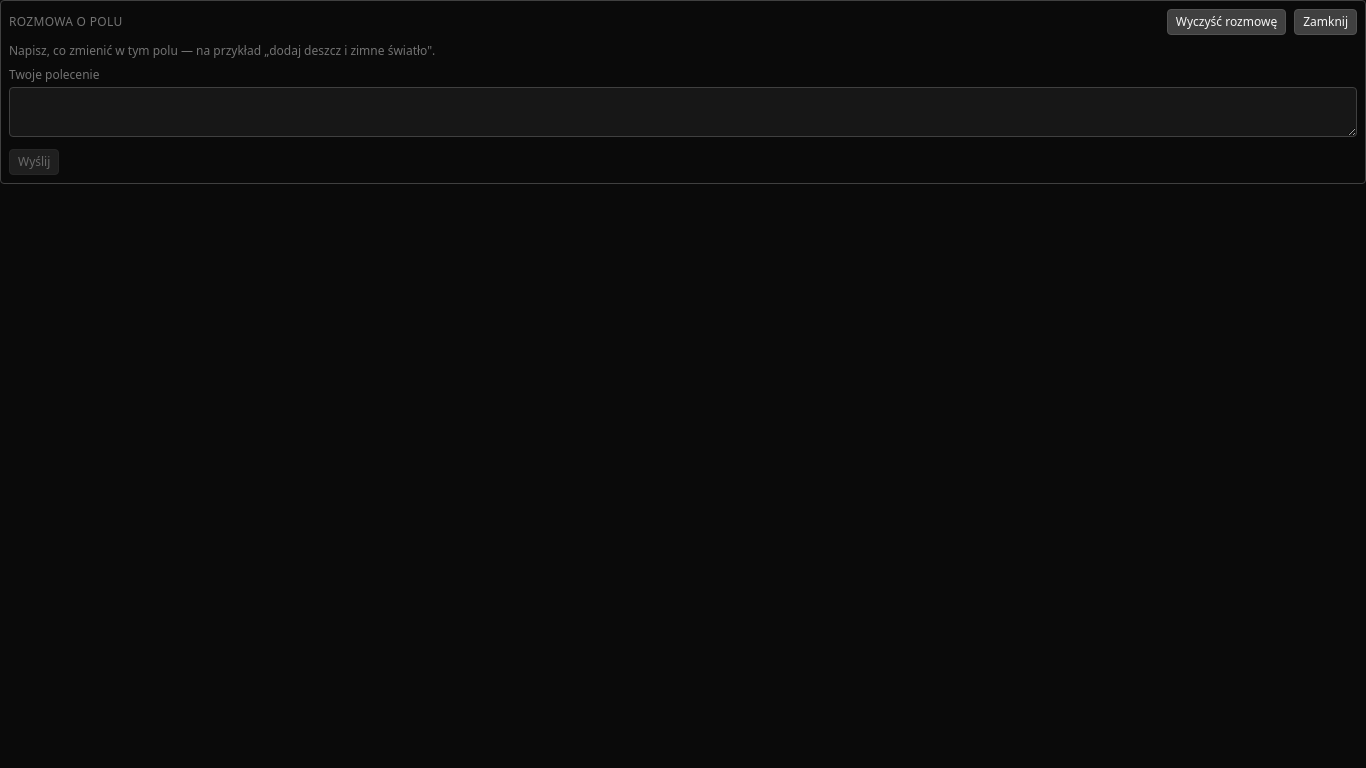
Test: FieldChat › odpowiedź bez propozycji mówi wprost, że nic nie zmienia
Type "czym różni się push in?" into the text box labelled "Twoje polecenie". click: (683, 112)
box: [9, 87, 1357, 137]
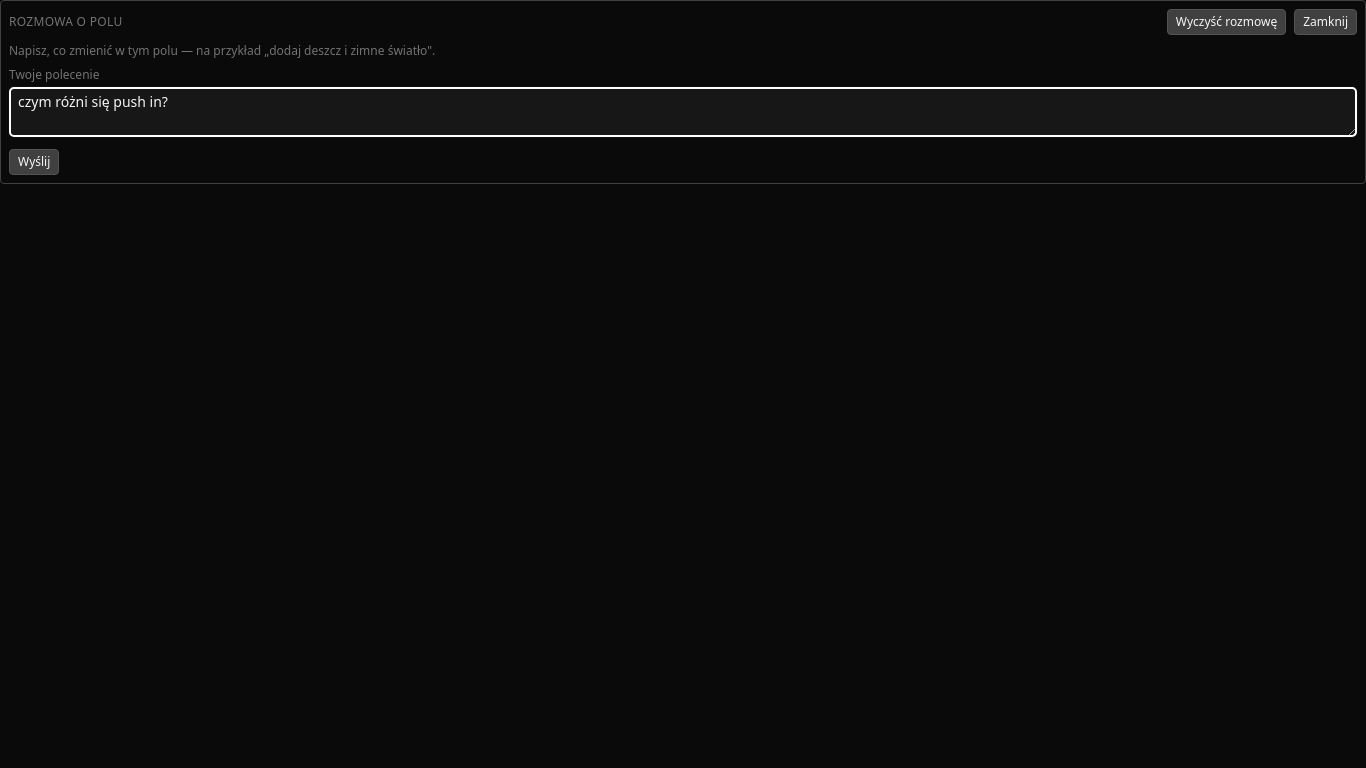
Click the button "Wyślij". click: click(34, 162)
box: [9, 149, 59, 175]
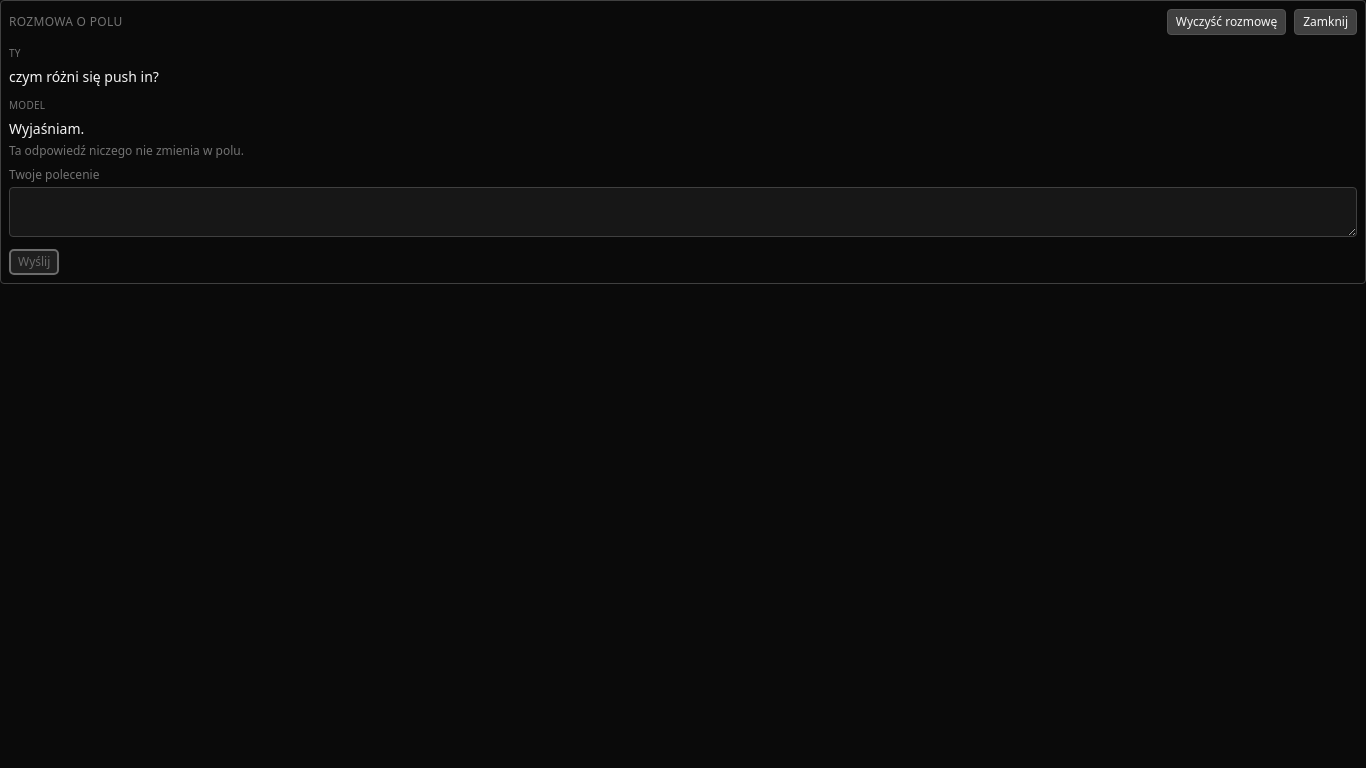
Check: the text "Ta odpowiedź niczego nie zmienia w polu." is shown, box [9, 142, 244, 159]
